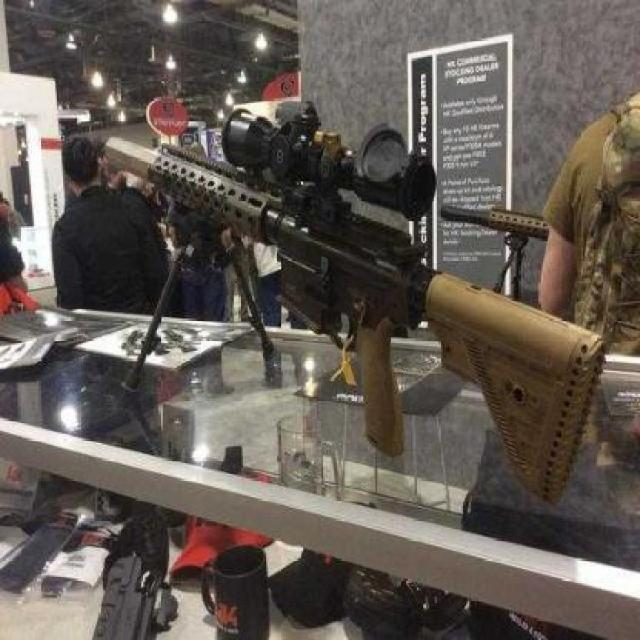weapon: (97, 106, 607, 502)
